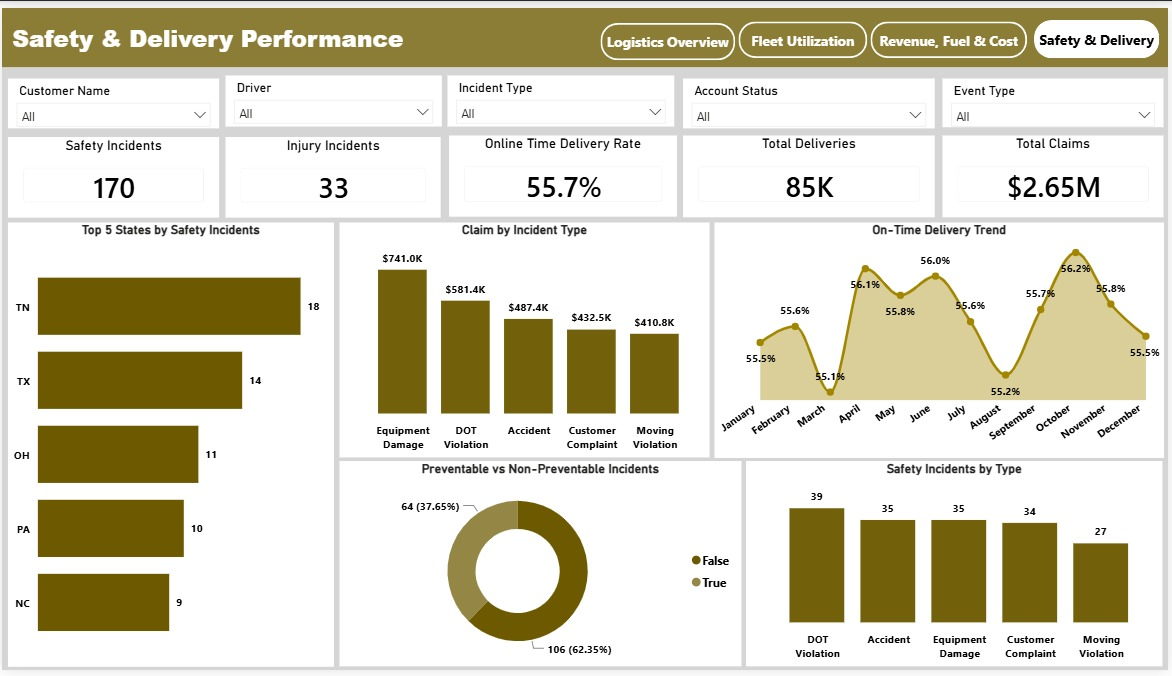

What the dashboard file says about the page in this screenshot:
{"tool":"powerbi","page":{"name":"Safety & Delivery ","canvas":[1341,762],"ordinal":3},"visuals":[{"type":"shape","box":[0,0,1378,68.3],"z":0},{"type":"cardVisual","title":"Safety Incidents","fields":{"Data":["CountNonNull(Safety Incidents.incident_id)"]},"box":[7.1,147.6,242.9,92.9],"z":1000},{"type":"cardVisual","title":"Injury Incidents","fields":{"Data":["Safety Incidents.Injury Incidents"]},"box":[257.1,147.6,247.6,92.9],"z":2000},{"type":"cardVisual","title":"Online Time Delivery Rate","fields":{"Data":["Delivery Events.On-Time Delivery %"]},"box":[513.3,146.7,262.2,93.3],"z":3000},{"type":"slicer","fields":{"Values":["Customers.customer_name"]},"box":[7.1,81,242.9,57.1],"z":5000},{"type":"slicer","fields":{"Values":["Drivers.first_name"]},"box":[256.1,78,248.8,58.5],"z":6000},{"type":"slicer","fields":{"Values":["Safety Incidents.incident_type"]},"box":[512.2,78,261,58.5],"z":7000},{"type":"slicer","fields":{"Values":["Customers.account_status"]},"box":[783,80.9,289.4,57.4],"z":8000},{"type":"slicer","fields":{"Values":["Delivery Events.event_type"]},"box":[1081.2,81.2,254.2,56.2],"z":9000},{"type":"actionButton","box":[688.1,16.7,154.8,42.9],"z":10000},{"type":"actionButton","box":[846,16,148,42],"z":11000},{"type":"actionButton","box":[998,16,180,42],"z":12000},{"type":"actionButton","box":[1186,14,144,44],"z":13000},{"type":"textbox","box":[7.5,10,535,60],"z":14000},{"type":"cardVisual","title":"Total Claims","fields":{"Data":["Sum(Safety Incidents.claim_amount)"]},"box":[1081.2,145.8,254.2,93.8],"z":15000},{"type":"columnChart","title":"Claim by Incident Type","fields":{"Category":["Safety Incidents.incident_type"],"Y":["Sum(Safety Incidents.claim_amount)"]},"box":[387.2,246.8,425.5,270.2],"z":18001},{"type":"columnChart","title":"Safety Incidents by Type","fields":{"Category":["Safety Incidents.incident_type"],"Y":["CountNonNull(Safety Incidents.incident_id)"]},"box":[855.3,521.3,478.7,236.2],"z":18002},{"type":"donutChart","title":"Preventable vs Non-Preventable Incidents","fields":{"Category":["Safety Incidents.preventable_flag"],"Y":["CountNonNull(Safety Incidents.incident_id)"]},"box":[387.2,521.3,461.7,236.2],"z":18003},{"type":"clusteredBarChart","title":"Top 5 States by Safety Incidents","fields":{"Category":["Safety Incidents.location_state"],"Y":["CountNonNull(Safety Incidents.incident_id)"]},"box":[6.4,246.8,374.5,510.6],"z":18004},{"type":"lineChart","title":"On-Time Delivery Trend","fields":{"Category":["Delivery Events.actual_datetime.Variation.Date Hierarchy.Month"],"Y":["Delivery Events.On-Time Delivery %"]},"box":[818.8,245.8,516.7,270.8],"z":18005},{"type":"cardVisual","title":"Total Deliveries","fields":{"Data":["CountNonNull(Trips.trip_id)"]},"box":[783.3,145.8,289.6,93.8],"z":18006}]}

Visuals, with their boxes in screenshot pixels (x1, y1, x2, y2), scaled from the page's 1341x762 canvas onto the 1172x676 screenshot:
shape: 0/0/1171/61
"Safety Incidents" cardVisual: 6/131/218/213
"Injury Incidents" cardVisual: 225/131/441/213
"Online Time Delivery Rate" cardVisual: 449/130/678/213
slicer - Customers.customer_name: 6/72/218/123
slicer - Drivers.first_name: 224/69/441/121
slicer - Safety Incidents.incident_type: 448/69/676/121
slicer - Customers.account_status: 684/72/937/123
slicer - Delivery Events.event_type: 945/72/1167/122
actionButton: 601/15/737/53
actionButton: 739/14/869/51
actionButton: 872/14/1030/51
actionButton: 1037/12/1162/51
textbox: 7/9/474/62
"Total Claims" cardVisual: 945/129/1167/213
"Claim by Incident Type" columnChart: 338/219/710/459
"Safety Incidents by Type" columnChart: 748/462/1166/672
"Preventable vs Non-Preventable Incidents" donutChart: 338/462/742/672
"Top 5 States by Safety Incidents" clusteredBarChart: 6/219/333/672
"On-Time Delivery Trend" lineChart: 716/218/1167/458
"Total Deliveries" cardVisual: 685/129/938/213
